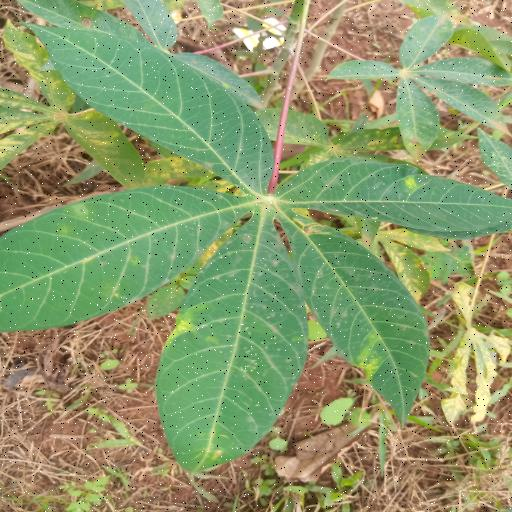Cassava_Healthy: (5, 18, 512, 469)
